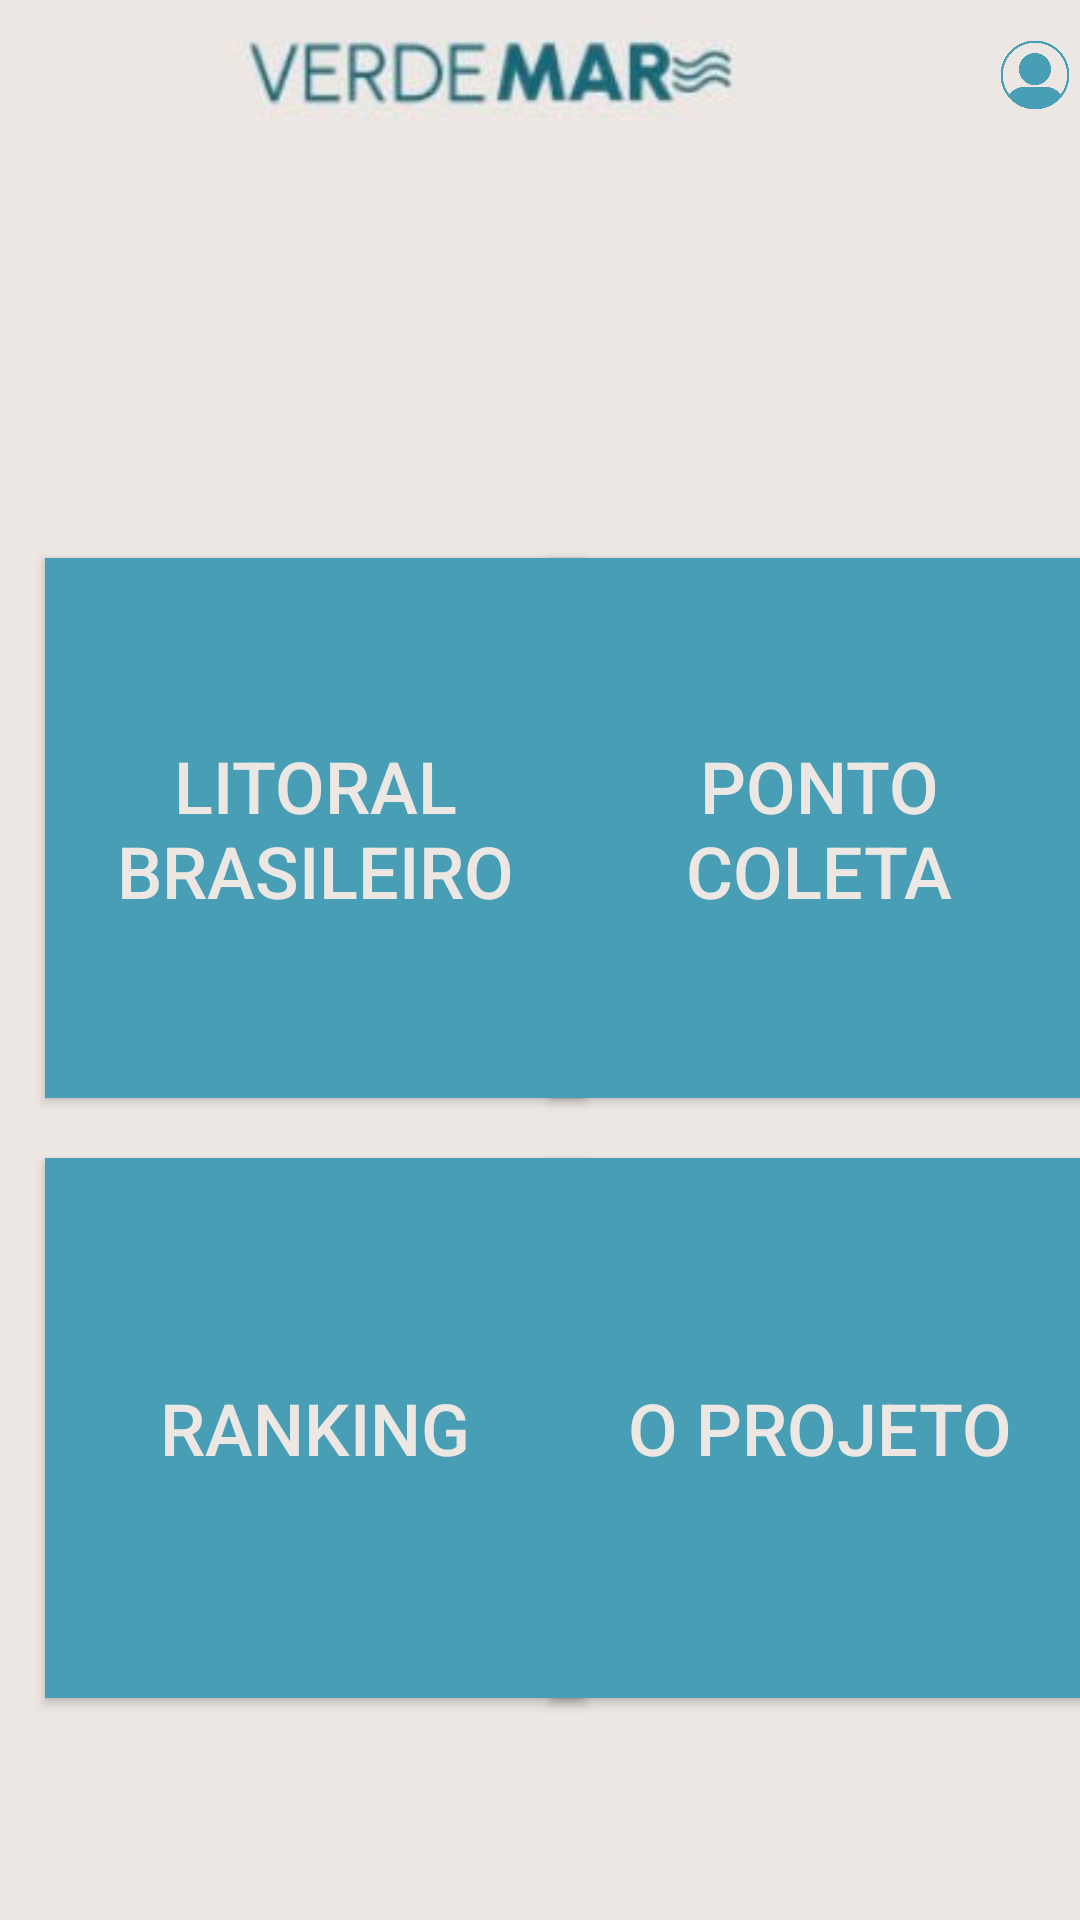

Icon bounding boxes for this 1080w x 1920h phone screenshot, format (x1,y1,x2,y2):
usuario: (1001,40,1069,109)
